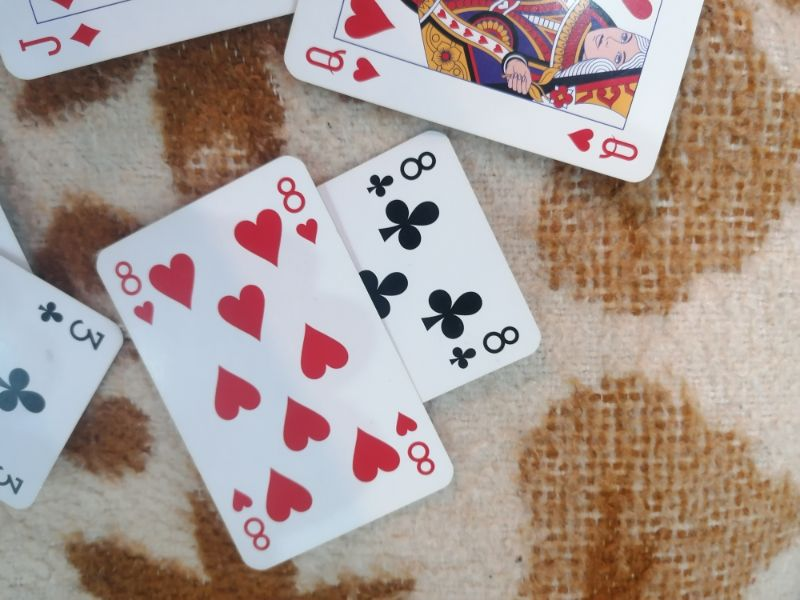3c: (33, 296, 108, 351)
8c: (366, 144, 437, 200), (446, 321, 521, 372)
8h: (273, 172, 323, 248), (109, 258, 160, 328), (392, 406, 439, 479), (227, 484, 275, 553)
Jd: (17, 16, 104, 63)
Qh: (302, 40, 385, 87), (563, 118, 641, 166)
